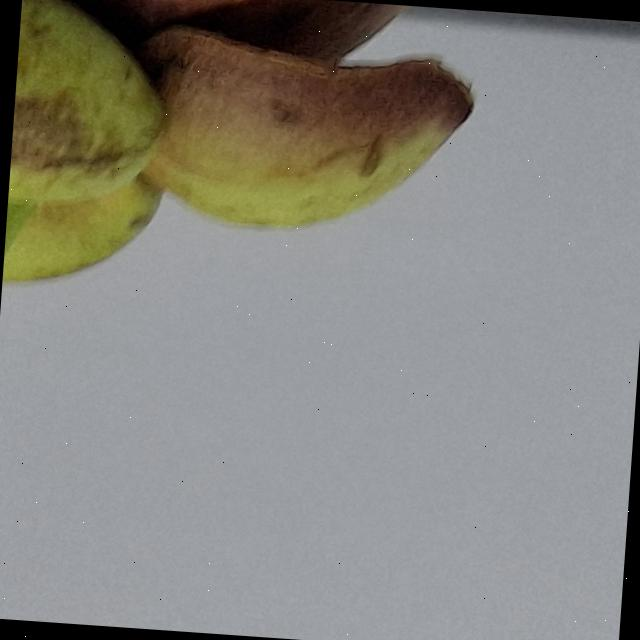mangosteen: (0, 0, 640, 516)
